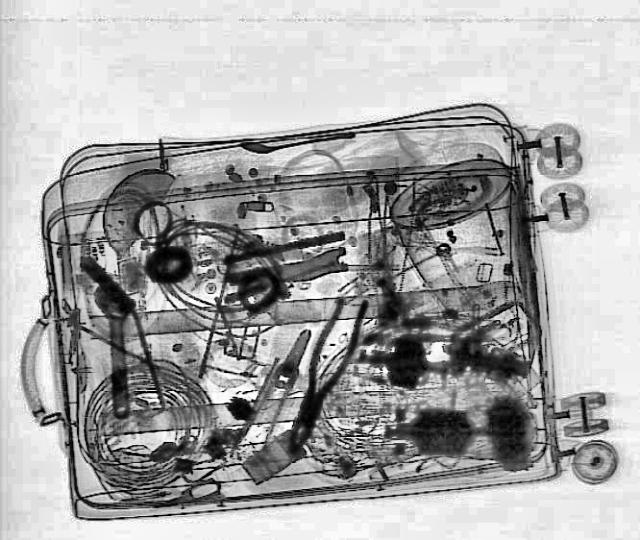Pliers: (271, 294, 375, 456), (230, 323, 322, 457)
Wrench: (90, 282, 140, 418)
